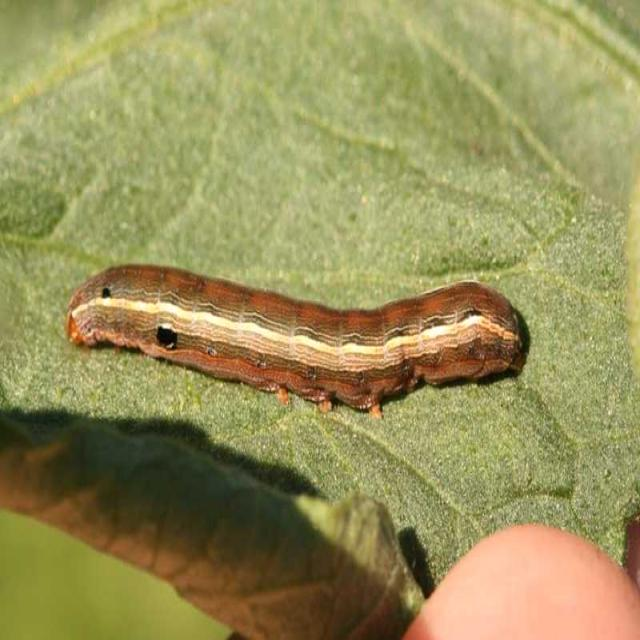worm: (66, 262, 527, 420)
